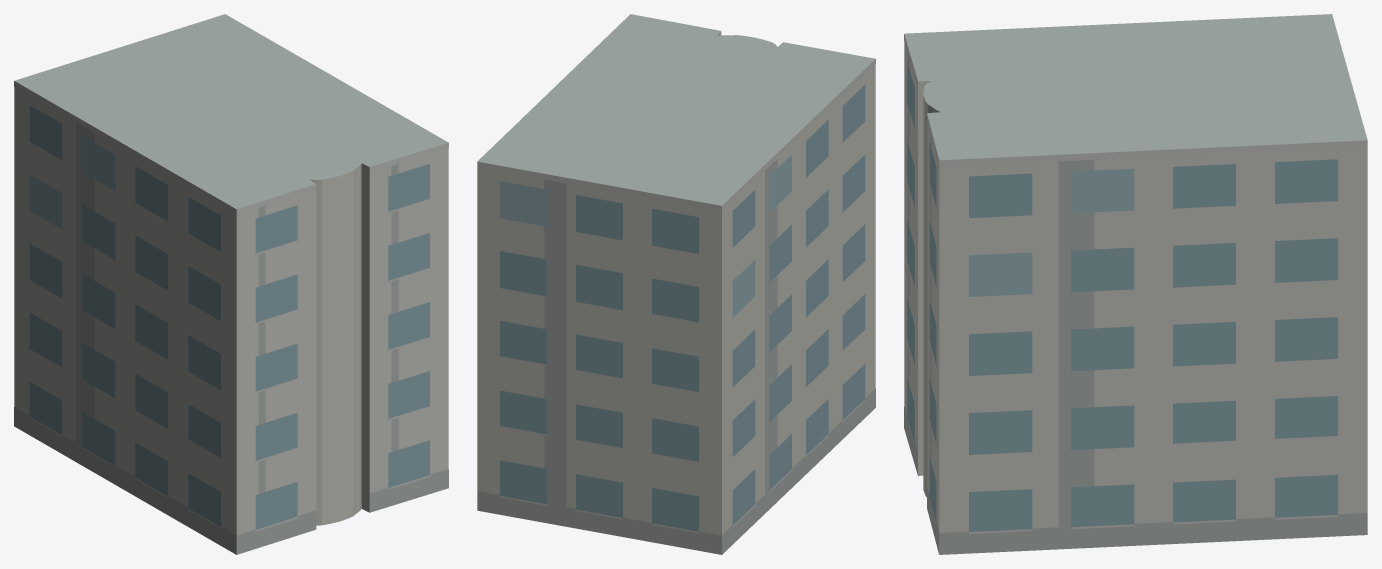
File: survey-upis-32887510.glb
3 views of the same model, side by side, from view 1: azimuth 30°, elevation 25°; view 2: azimuth 150°, elevation 25°; view 3: azimuth 270°, elevation 25° (orthographic). The views are drawn at different scales.
Visible parts, largest first — view 1: survey-upis-32887510.tmp; view 2: survey-upis-32887510.tmp; view 3: survey-upis-32887510.tmp.
Part boxes in pixels (x1,y1,x2,y2): survey-upis-32887510.tmp: [14, 14, 448, 554]; survey-upis-32887510.tmp: [477, 14, 875, 554]; survey-upis-32887510.tmp: [904, 14, 1367, 554].
Bounding box in the file's own units: 11.62 × 14.6 × 15.56.
